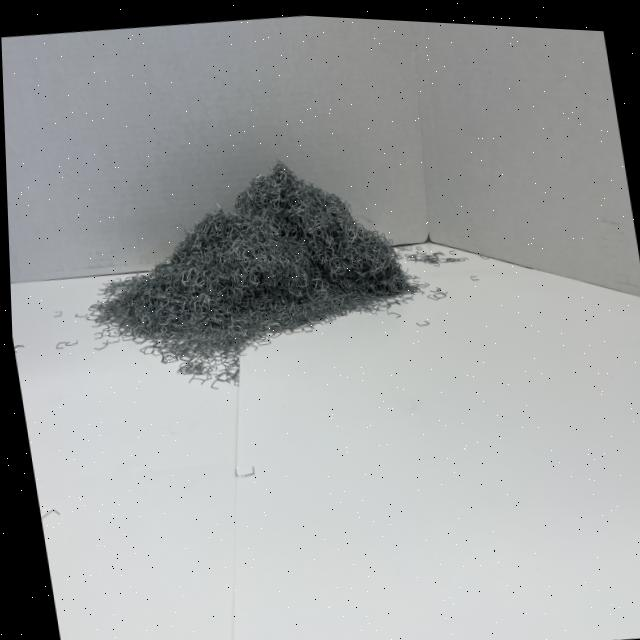staples: (62, 132, 429, 415)
